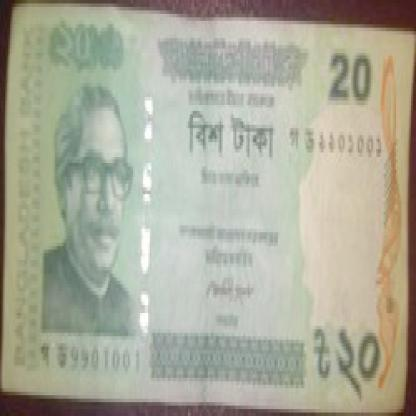Twenty: (182, 111, 276, 170), (311, 322, 381, 399), (45, 21, 130, 80), (325, 52, 376, 104)
